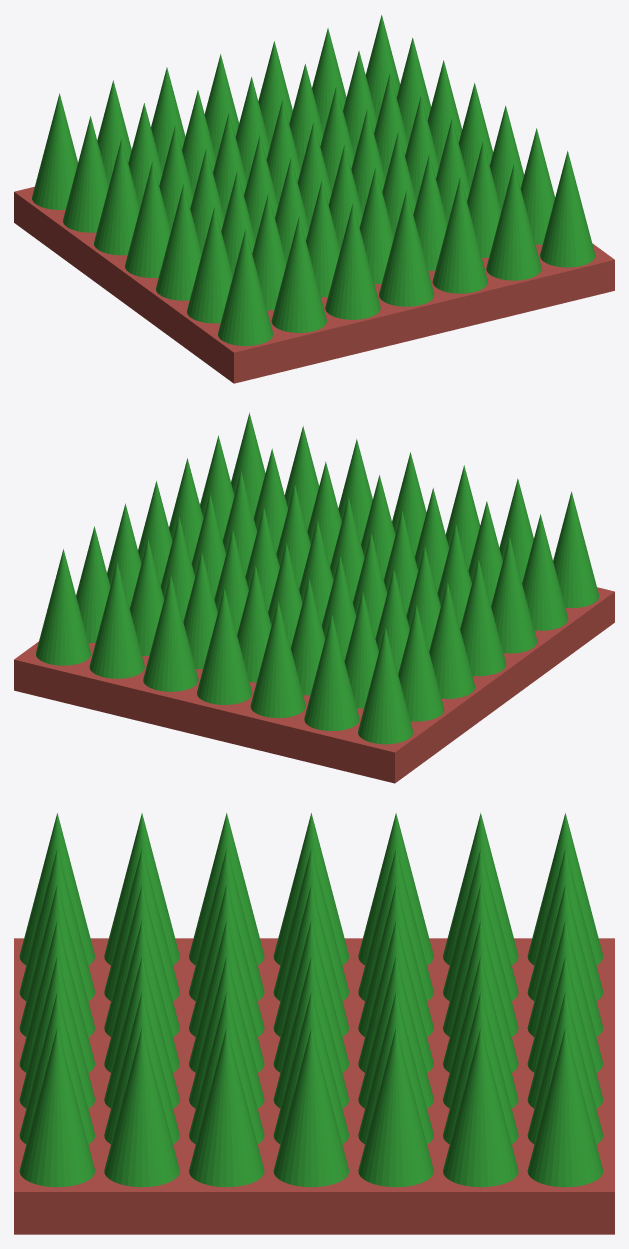
Rendered from grass.glb.
3 renders of one model, top to bottom at view 1: azimuth 30°, elevation 25°; view 2: azimuth 150°, elevation 25°; view 3: azimuth 270°, elevation 25°, orthographic. The views are drawn at different scales.
Parts seen in each view (by area): view 1: Cone, Cube; view 2: Cone, Cube; view 3: Cone, Cube.
Boxes of the visible parts, bbox=[...] form: Cone: bbox=[32, 15, 595, 345]; Cube: bbox=[14, 186, 614, 383]; Cone: bbox=[36, 412, 599, 744]; Cube: bbox=[14, 587, 614, 783]; Cone: bbox=[19, 813, 603, 1187]; Cube: bbox=[14, 938, 614, 1234].
Size of the model in its own units: 2.73 by 0.9339 by 2.73.
